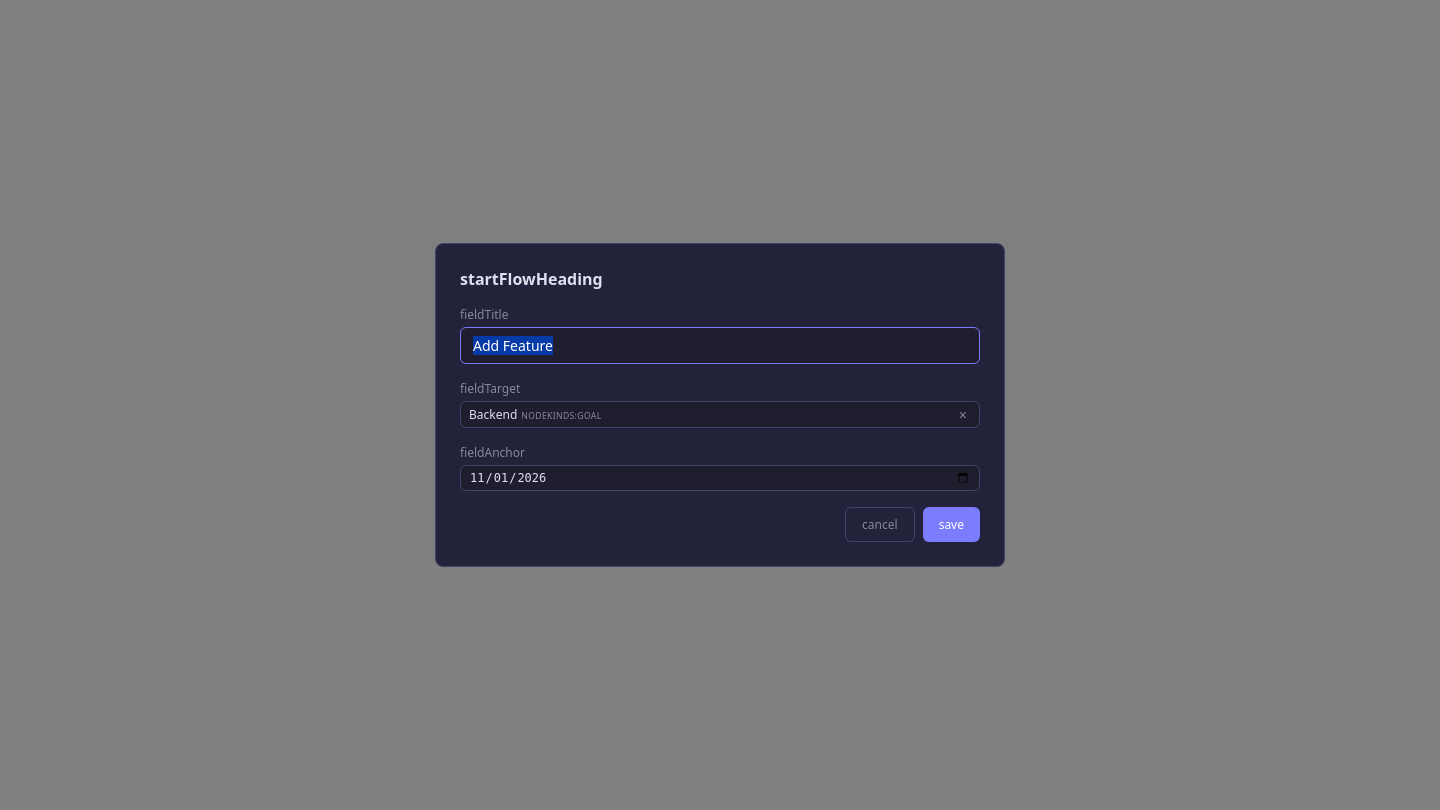
Test case: StartFlowModal › allows exactly one target — hides the search once chosen, restores it on removal
Expected: the field with placeholder "placeholderTargetSearch" is not shown
Note: Removing it brings the search back.
Click the button "×".
click(963, 414)  # box [955,408,971,422]
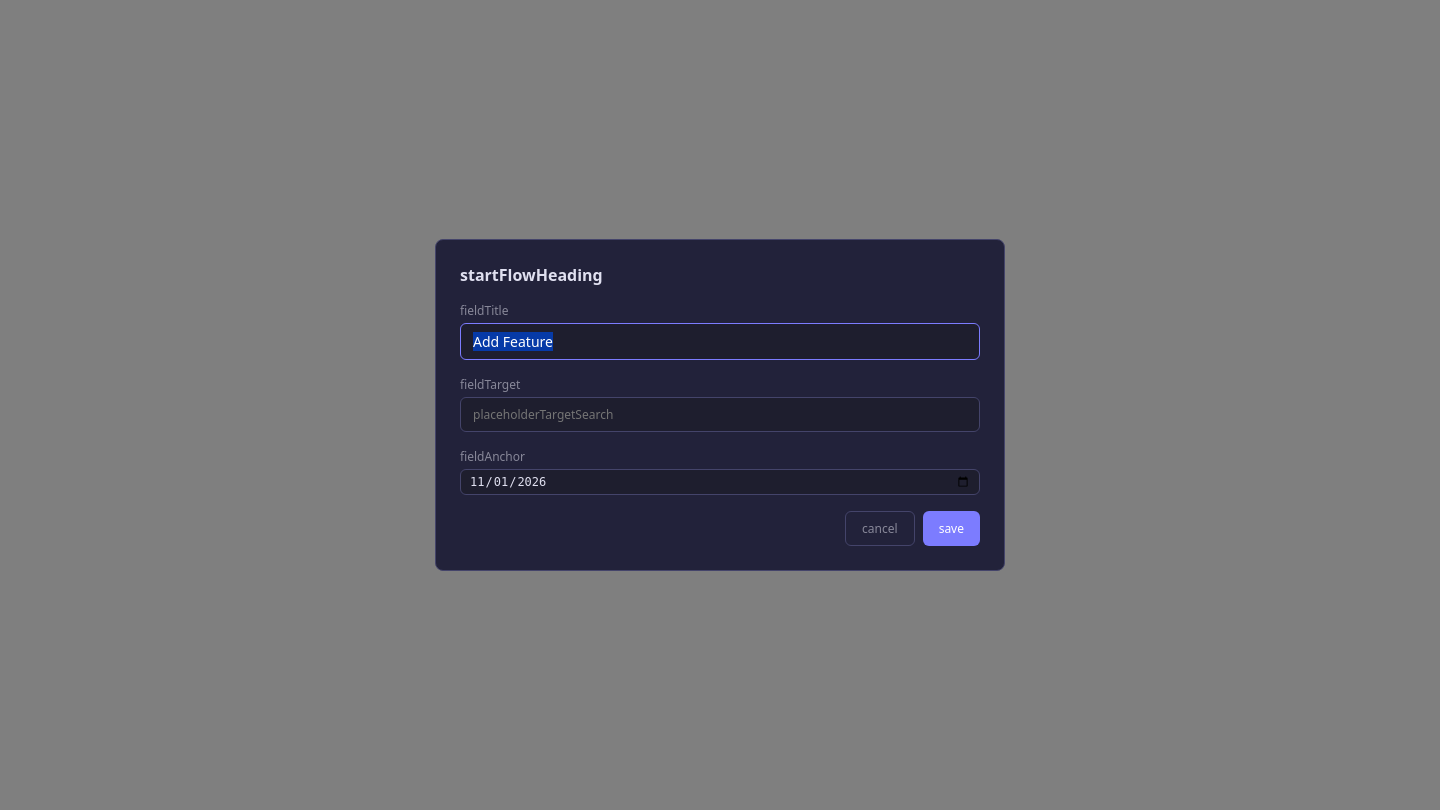
Result: the field with placeholder "placeholderTargetSearch" is shown at [460,397,980,432]
